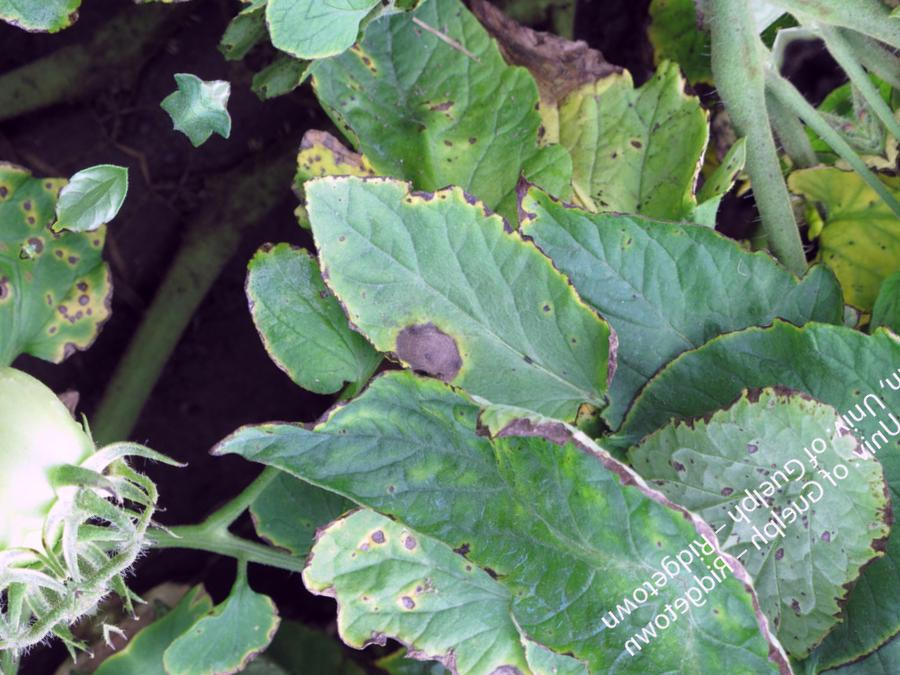Tomato Early blight leaf: (199, 239, 731, 675), (265, 102, 649, 503), (264, 0, 586, 277)
